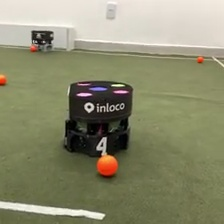ball: (95, 153, 119, 178), (1, 72, 7, 86), (196, 54, 204, 63), (29, 44, 37, 53)
goal: (1, 22, 77, 51)
robot: (61, 79, 135, 159), (29, 29, 55, 52)
